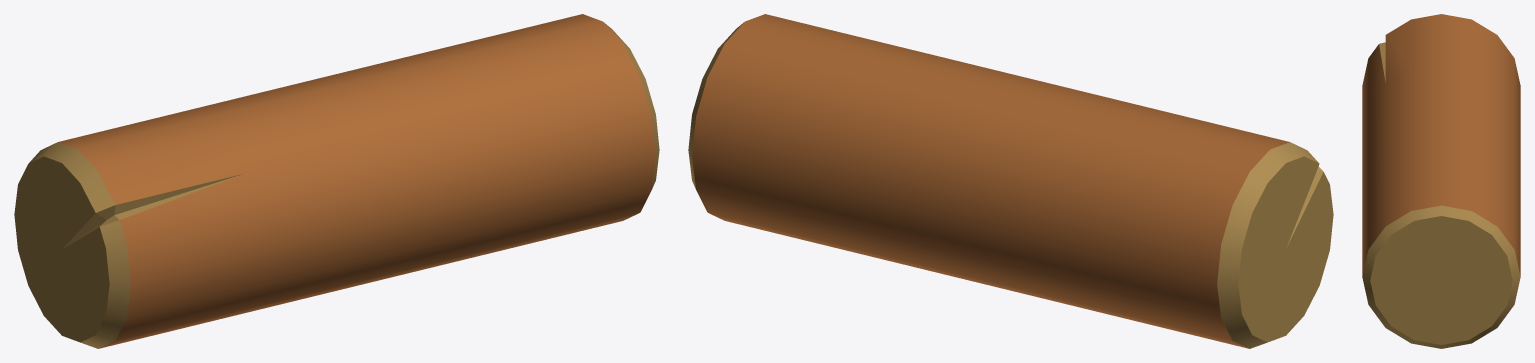
The model's file is WoodThree.fbx.
3 renders of one model, left to right at view 1: azimuth 30°, elevation 25°; view 2: azimuth 150°, elevation 25°; view 3: azimuth 270°, elevation 25°, orthographic. The views are drawn at different scales.
Visible parts, largest first — view 1: WoodThree; view 2: WoodThree; view 3: WoodThree.
Boxes of the visible parts, bbox=[...] form: WoodThree: bbox=[14, 14, 659, 348]; WoodThree: bbox=[688, 14, 1333, 348]; WoodThree: bbox=[1362, 14, 1520, 348].
Bounding box in the file's own units: 120 × 40 × 40.
